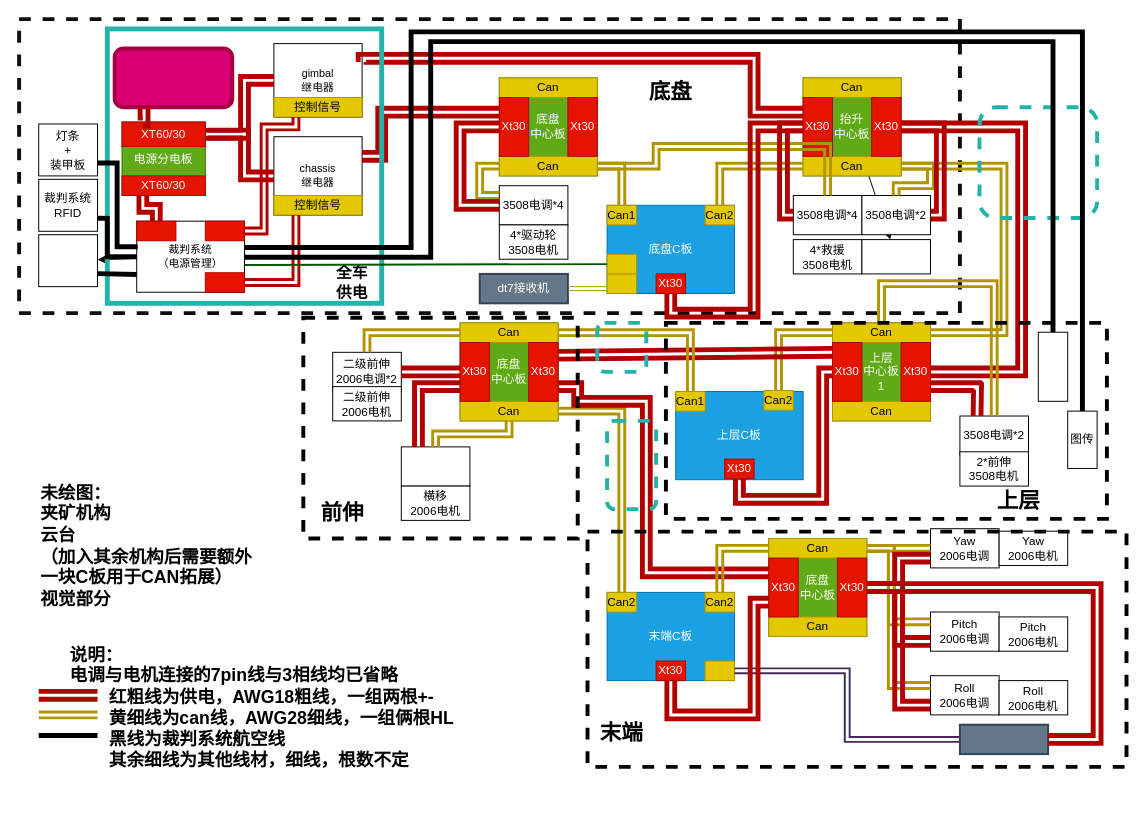
Some shapes in this 1145 by 815 pixel diagram are drawn without their labels. The shapes that lost their labels are listed below. From the top down, each one's centre as x and y in pixels, then its label:
the point at 173,77: 双电并联
the point at 1038,162: 抬升拖链
the point at 156,230: 供电
the point at 224,230: chassis
the point at 68,260: 裁判系统主控
the point at 621,263: 串口
the point at 896,256: 2*抬升 3508电机
the point at 224,282: gimbal
the point at 621,283: Dbus
the point at 621,346: 前伸拖链
the point at 1052,366: 场地定位
the point at 435,466: 横移 2006电调*1
the point at 631,464: 横移拖链
the point at 719,670: GPIO
the point at 1003,739: 吸盘继电器
